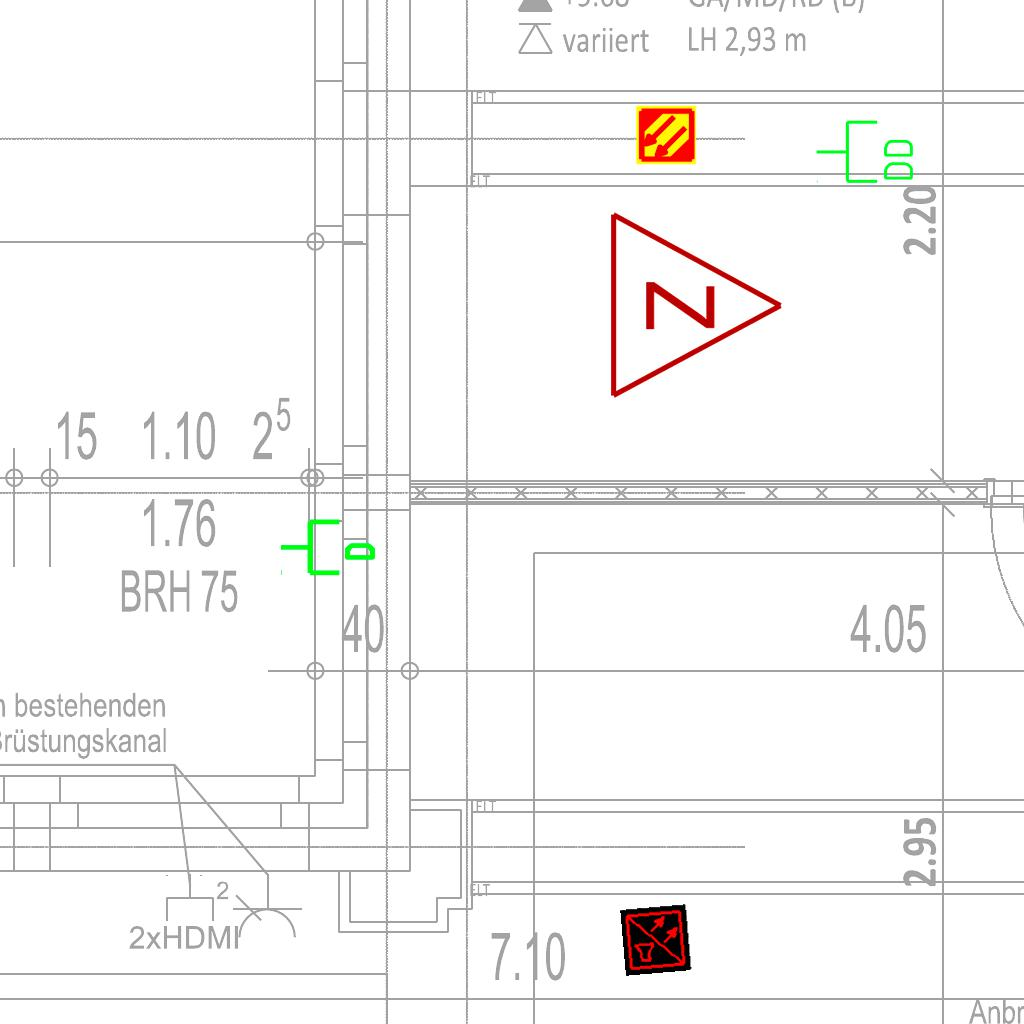ASR_Ansaugrauchmelder: (635, 104, 697, 166)
Datenanschluss_einfach: (278, 511, 378, 580)
Datenanschluss_zweifach: (814, 118, 917, 187)
OKW_Multisensormelder_(Kombination_optischer_Rauch-Kahlenmonoxid_Waerme-Melder): (620, 904, 692, 976)
Zimmersignalleuchte: (596, 205, 796, 401)
